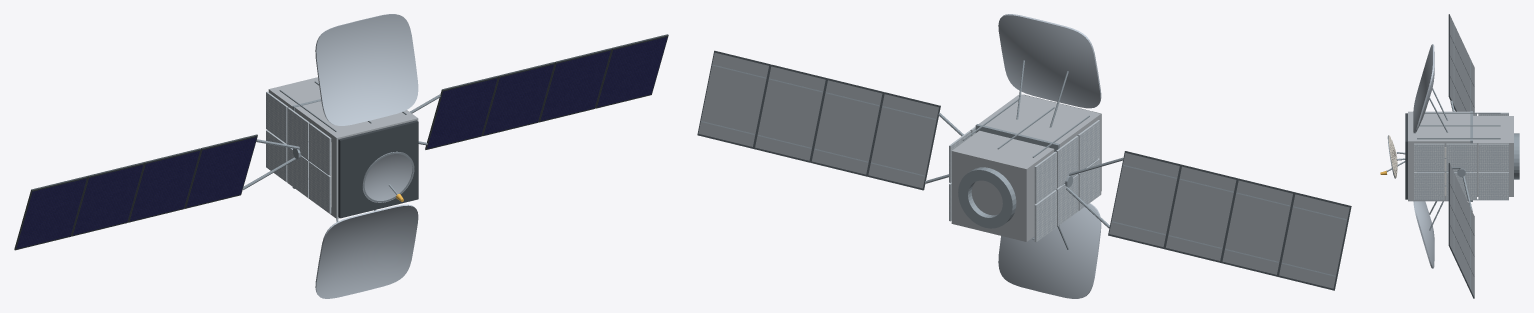
File: ses-8.glb
The picture shows the model from 3 angles, left to right: view 1: azimuth 30°, elevation 25°; view 2: azimuth 150°, elevation 25°; view 3: azimuth 270°, elevation 25°; orthographic projection. The views are drawn at different scales.
Visible parts, largest first — view 1: Solar cell panel (×8), Reflector 2 face, Reflector 1 face, Radiator bay (×6), Earth-facing deck, Solar panel frame (×8), Payload module, Reflector 3 face, Service module; view 2: Rear array substrate (×8), Reflector 2 face, Service module, Reflector 1 face, Radiator bay (×6), Solar panel frame (×8), Payload module, Launch adapter ring, Module interface; view 3: Radiator bay (×6), Rear array substrate (×8), Payload module, Service module, Reflector 2 face, Reflector 1 face, Blanket closeout seam (×3), Launch adapter ring, Earth-facing deck, Reflector 3 insulated back, Solar panel frame, Radiator face (+1 smaller).
Boxes of the visible parts, left/top/right/bottom form: Solar cell panel (×8): left=16, top=37, right=667, bottom=248; Reflector 2 face: left=315, top=14, right=418, bottom=125; Reflector 1 face: left=315, top=204, right=418, bottom=298; Radiator bay (×6): left=266, top=91, right=331, bottom=213; Earth-facing deck: left=338, top=120, right=418, bottom=218; Solar panel frame (×8): left=14, top=34, right=668, bottom=250; Payload module: left=295, top=101, right=418, bottom=218; Reflector 3 face: left=363, top=152, right=414, bottom=202; Service module: left=268, top=77, right=320, bottom=109; Rear array substrate (×8): left=698, top=52, right=1349, bottom=288; Reflector 2 face: left=998, top=14, right=1101, bottom=108; Service module: left=951, top=130, right=1054, bottom=241; Reflector 1 face: left=998, top=203, right=1101, bottom=298; Radiator bay (×6): left=1034, top=120, right=1099, bottom=241; Solar panel frame (×8): left=697, top=50, right=1351, bottom=290; Payload module: left=978, top=94, right=1101, bottom=195; Launch adapter ring: left=958, top=167, right=1016, bottom=228; Module interface: left=975, top=124, right=1059, bottom=226; Radiator bay (×6): left=1414, top=143, right=1508, bottom=200; Rear array substrate (×8): left=1450, top=15, right=1474, bottom=296; Payload module: left=1408, top=111, right=1470, bottom=201; Service module: left=1473, top=116, right=1513, bottom=196; Reflector 2 face: left=1413, top=44, right=1434, bottom=133; Reflector 1 face: left=1413, top=201, right=1434, bottom=268; Blanket closeout seam (×3): left=1417, top=112, right=1500, bottom=139; Launch adapter ring: left=1514, top=133, right=1519, bottom=179; Earth-facing deck: left=1405, top=113, right=1407, bottom=199; Reflector 3 insulated back: left=1388, top=135, right=1397, bottom=178; Solar panel frame: left=1448, top=224, right=1474, bottom=298; Radiator face: left=1416, top=147, right=1470, bottom=195.
Size of the model in its own units: 17.98 by 7.33 by 4.59.
10 materials, 2 textured.
